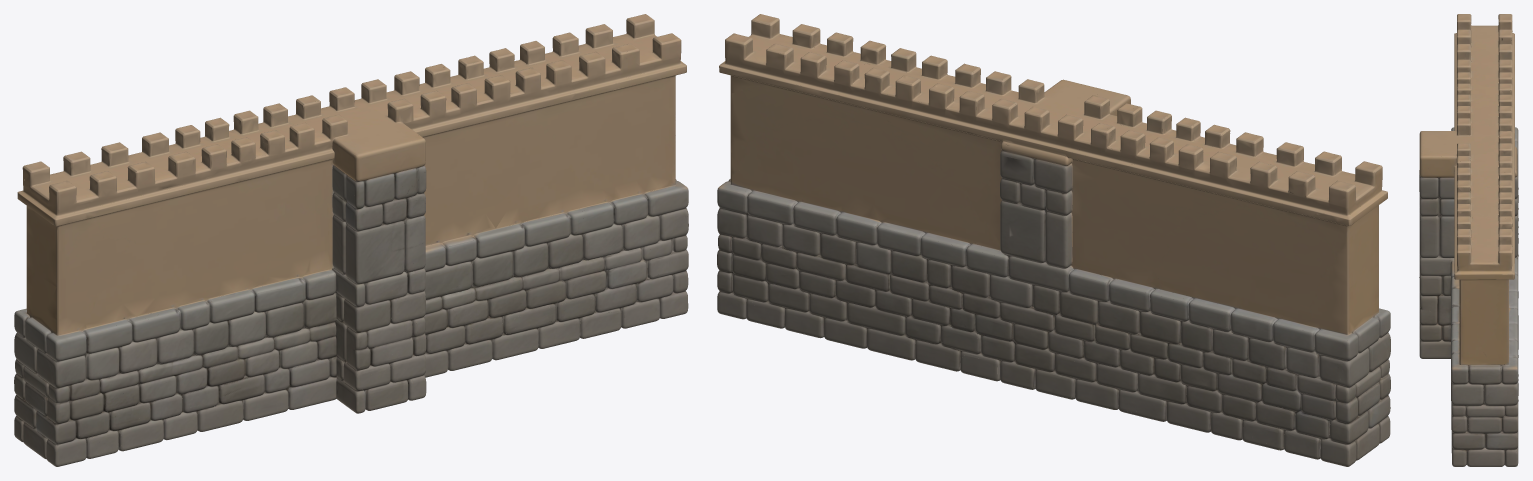
File: Standard_Wall_Segment_opt.glb
3 views of the same model, side by side, from view 1: azimuth 30°, elevation 25°; view 2: azimuth 150°, elevation 25°; view 3: azimuth 270°, elevation 25° (orthographic). The views are drawn at different scales.
Parts seen in each view (by area): view 1: material; view 2: material; view 3: material.
Part boxes in pixels (bbox=[...]): material: bbox=[14, 14, 688, 466]; material: bbox=[717, 14, 1390, 466]; material: bbox=[1419, 14, 1518, 466].
Size of the model in its own units: 1.1 by 0.4555 by 0.1905.
1 material, 1 textured.
